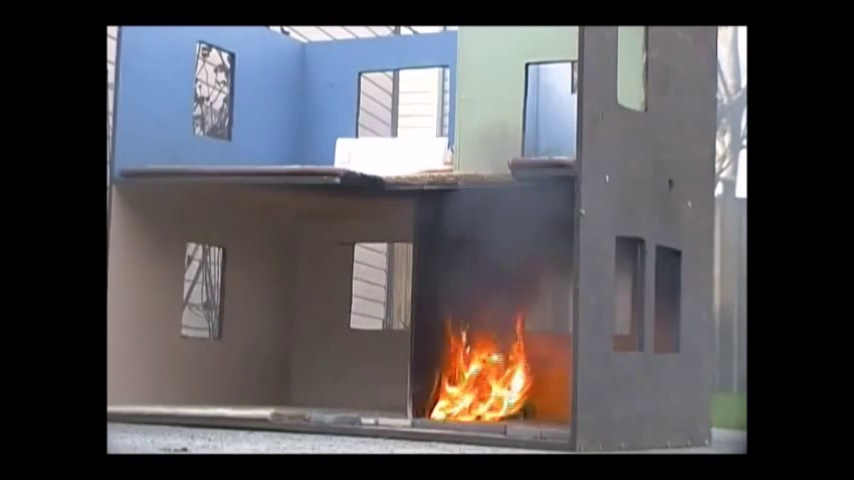fire: (430, 333, 529, 417)
